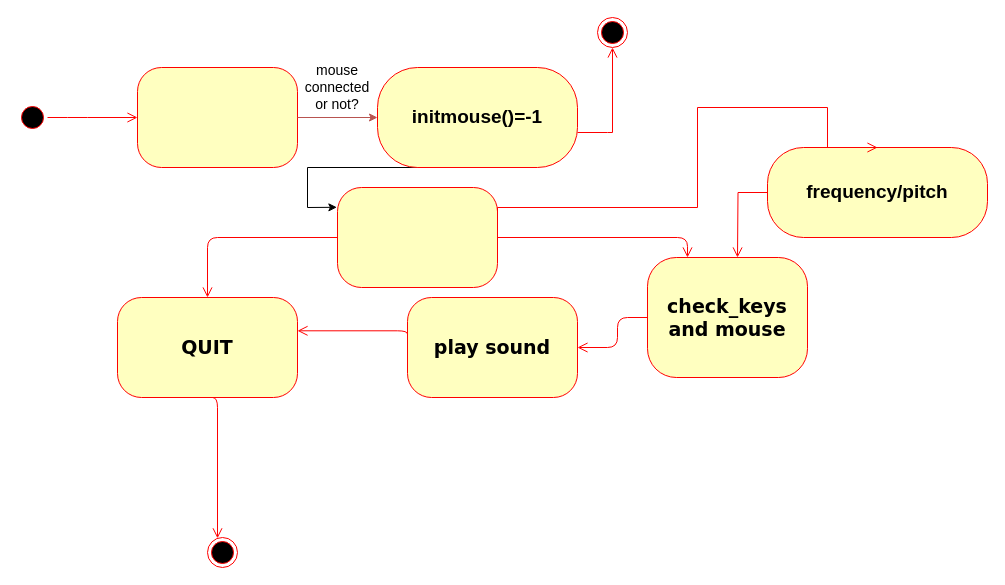
This 1005x585 diagram has some shape labels left out. Here are the shapes that lost their labels. From the top down, the centre of each, then its label:
At (x=217, y=117): "user".
At (x=417, y=237): "setupscreen".
